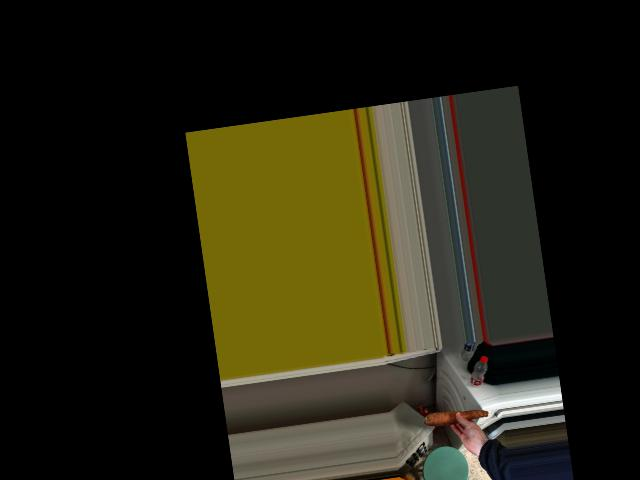sweet_potato: (425, 404, 490, 433)
